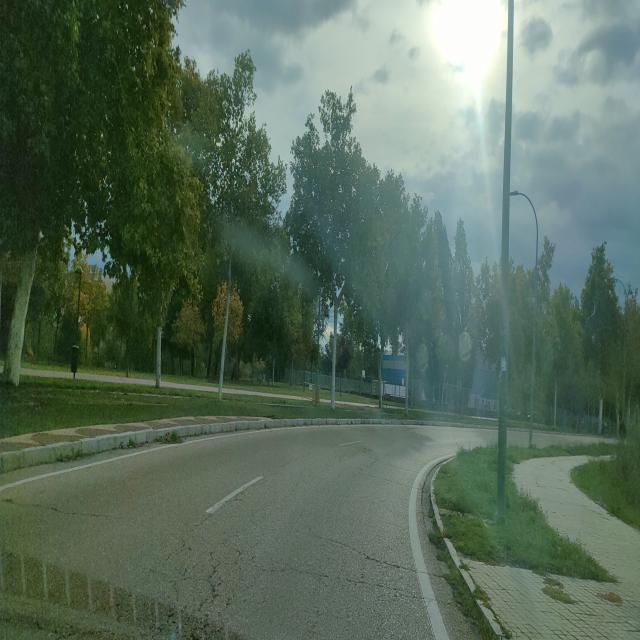Poth-hole: (148, 531, 267, 640), (314, 525, 451, 593), (328, 571, 456, 614), (2, 492, 109, 533), (0, 610, 117, 638)
